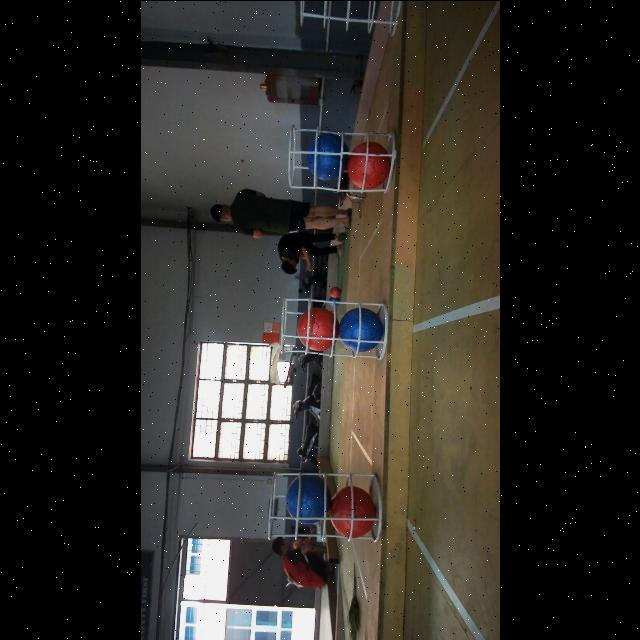B: (286, 472, 328, 524), (338, 306, 384, 352), (306, 132, 346, 180)
R: (328, 484, 376, 538), (348, 141, 390, 187), (296, 307, 336, 349)
